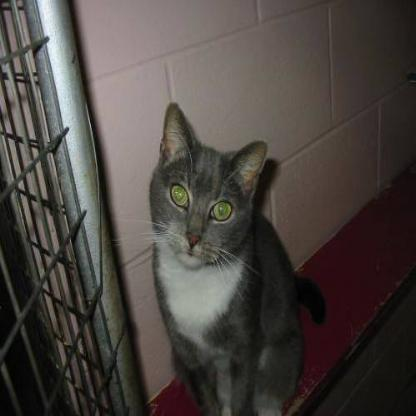cat: (122, 70, 278, 295)
